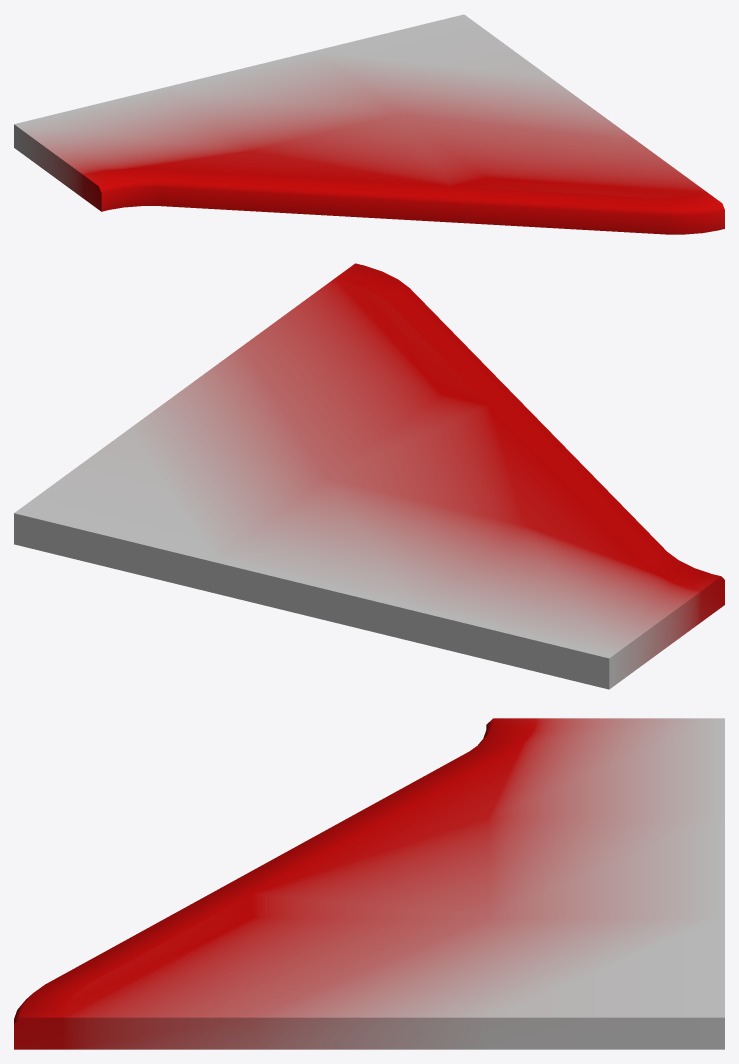
File: Sidewalk_Inset_3m_R.gltf
3 views of the same model, one above another, from view 1: azimuth 30°, elevation 25°; view 2: azimuth 150°, elevation 25°; view 3: azimuth 270°, elevation 25° (orthographic). The views are drawn at different scales.
Parts seen in each view (by area): view 1: Sidewalk_Inset_3m_R; view 2: Sidewalk_Inset_3m_R; view 3: Sidewalk_Inset_3m_R.
Part boxes in pixels (x1,y1,x2,y2): Sidewalk_Inset_3m_R: [14, 14, 724, 234]; Sidewalk_Inset_3m_R: [14, 263, 724, 689]; Sidewalk_Inset_3m_R: [14, 718, 724, 1049].
Size of what is drawn, in the model's own units: 3 by 0.15 by 3.01.
